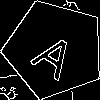A: (29, 24, 86, 81)
